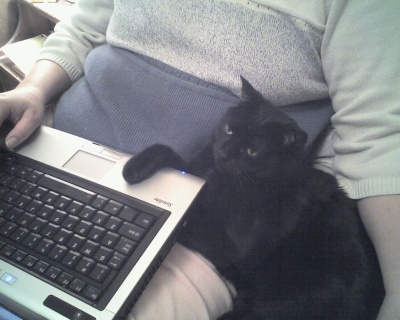Cat: (122, 72, 386, 319)
